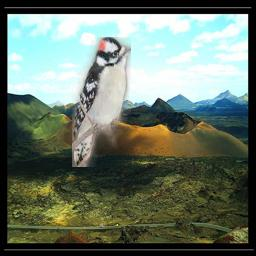Woodpecker: (72, 37, 131, 167)
